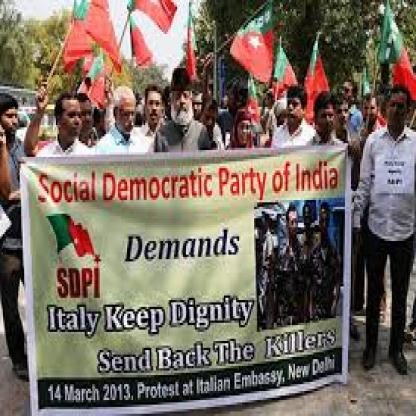BANNER: (20, 143, 359, 416)
